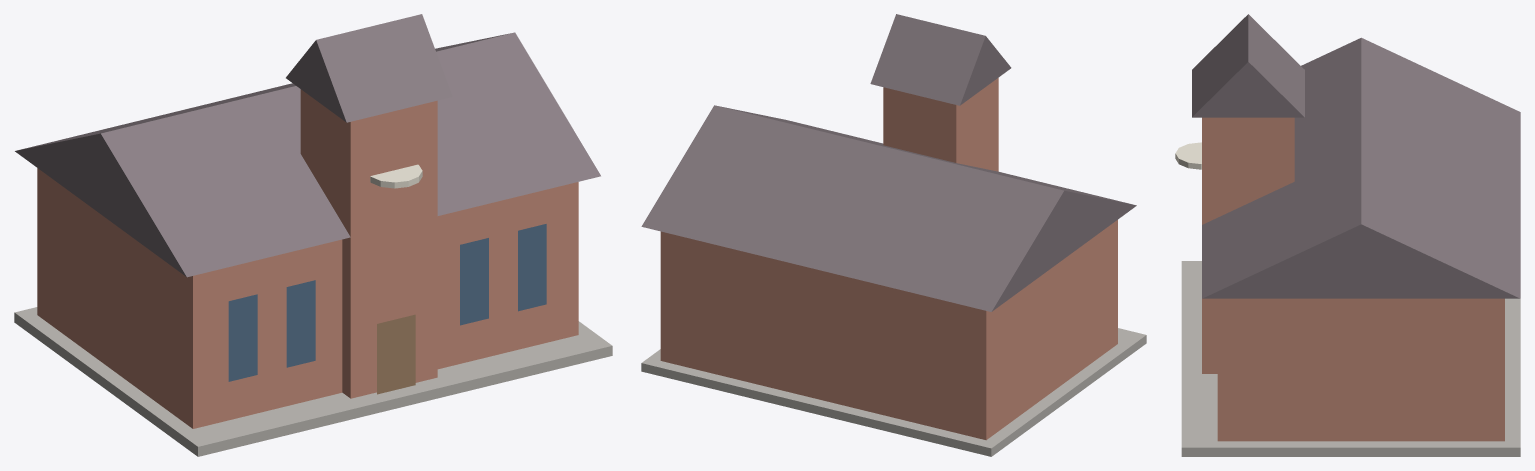
File: college.glb
3 renders of one model, left to right at view 1: azimuth 30°, elevation 25°; view 2: azimuth 150°, elevation 25°; view 3: azimuth 270°, elevation 25°, orthographic. The views are drawn at different scales.
Parts seen in each view (by area): view 1: college; view 2: college; view 3: college.
Part boxes in pixels (<box>): college: <box>14,14,612,456</box>; college: <box>641,14,1146,456</box>; college: <box>1175,14,1520,456</box>.
Bounding box in the file's own units: 0.86 × 0.7 × 0.672.
